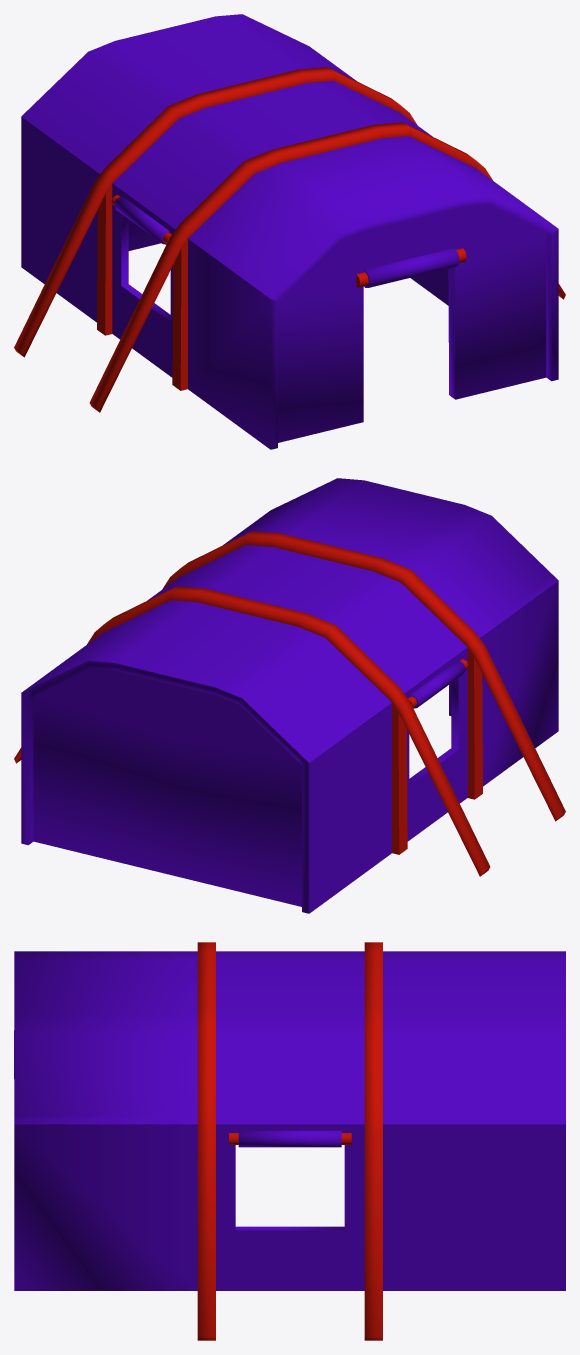
The model's file is Med_house.fbx.
3 renders of one model, top to bottom at view 1: azimuth 30°, elevation 25°; view 2: azimuth 150°, elevation 25°; view 3: azimuth 270°, elevation 25°, orthographic. The views are drawn at different scales.
Visible parts, largest first — view 1: Greenhouse.004, Cylinder.005, Cylinder.006; view 2: Greenhouse.004, Cylinder.006; view 3: Greenhouse.004, Cylinder.006.
Part boxes in pixels (x1,y1,x2,y2): Greenhouse.004: (14, 14, 565, 449); Cylinder.005: (356, 248, 466, 287); Cylinder.006: (111, 195, 171, 244); Greenhouse.004: (14, 478, 565, 913); Cylinder.006: (408, 659, 468, 708); Greenhouse.004: (14, 942, 565, 1340); Cylinder.006: (229, 1130, 351, 1147).
Size of the model in its own units: 6.5 by 2.83 by 6.01.
